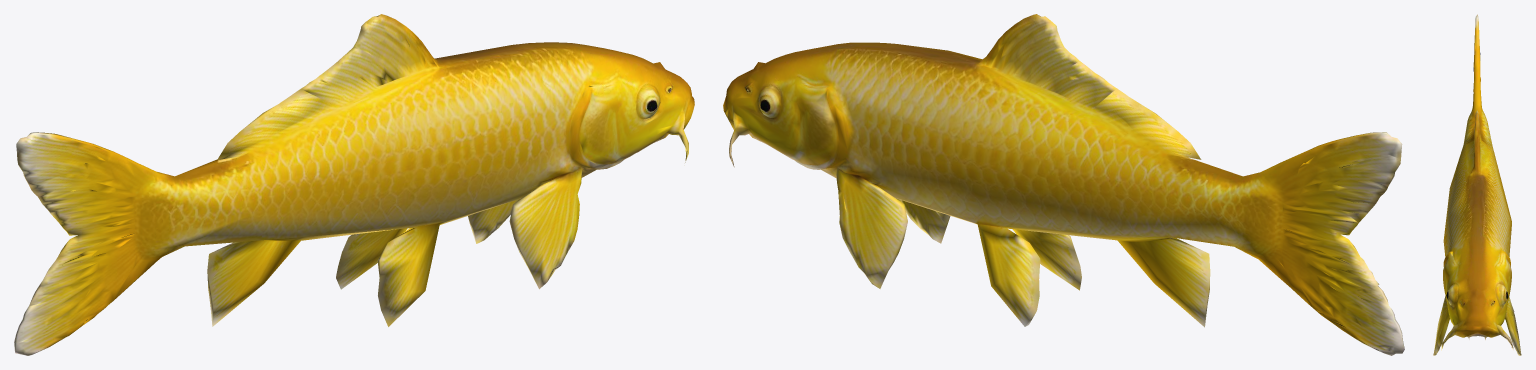
File: ogon.glb
3 views of the same model, side by side, from view 1: azimuth 30°, elevation 25°; view 2: azimuth 150°, elevation 25°; view 3: azimuth 270°, elevation 25° (orthographic). The views are drawn at different scales.
Visible parts, largest first — view 1: ogon; view 2: ogon; view 3: ogon.
Boxes of the visible parts, x1,y1,x2,y2 form: ogon: (14, 14, 694, 355); ogon: (723, 14, 1404, 355); ogon: (1433, 14, 1521, 355).
Bounding box in the file's own units: 0.9991 × 0.4102 × 0.1607.
Materials: 1 (1 with a texture image).
